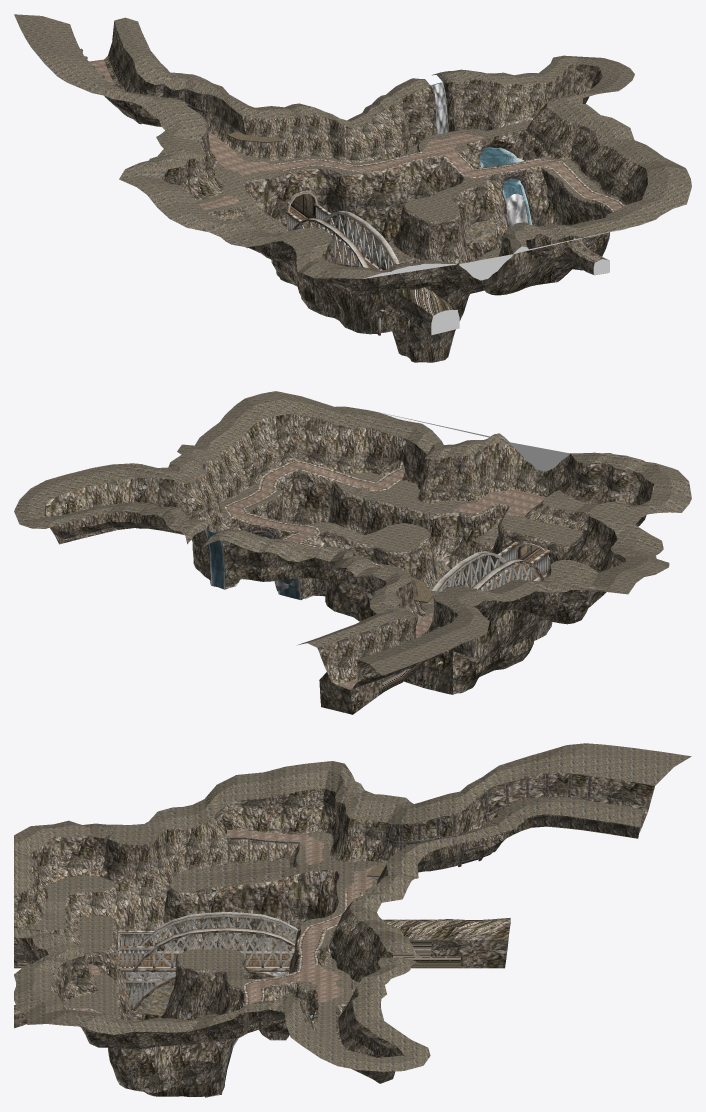
Rendered from SachsenMountainPath2.obj.
3 views of the same model, one above another, from view 1: azimuth 30°, elevation 25°; view 2: azimuth 150°, elevation 25°; view 3: azimuth 270°, elevation 25° (orthographic). The views are drawn at different scales.
Parts seen in each view (by area): view 1: Object.11, Object.13, Object.14, Object.10, Object.12, Object.7, Object.3, Object.18, Object.9, Object.17, Object.5; view 2: Object.11, Object.13, Object.14, Object.10, Object.12, Object.7, Object.18; view 3: Object.11, Object.13, Object.10, Object.14, Object.18, Object.4, Object.12.
Boxes of the visible parts, left/top/right/bottom form: Object.11: left=88, top=21, right=647, bottom=362; Object.13: left=14, top=14, right=691, bottom=278; Object.14: left=89, top=59, right=622, bottom=260; Object.10: left=286, top=203, right=409, bottom=335; Object.12: left=274, top=151, right=624, bottom=211; Object.7: left=431, top=82, right=532, bottom=224; Object.3: left=291, top=193, right=458, bottom=334; Object.18: left=80, top=48, right=527, bottom=248; Object.9: left=568, top=242, right=609, bottom=275; Object.17: left=431, top=82, right=448, bottom=134; Object.5: left=505, top=194, right=528, bottom=228; Object.11: left=44, top=414, right=653, bottom=714; Object.13: left=14, top=391, right=691, bottom=675; Object.14: left=227, top=462, right=546, bottom=689; Object.10: left=432, top=541, right=550, bottom=665; Object.12: left=224, top=461, right=433, bottom=594; Object.7: left=205, top=530, right=300, bottom=599; Object.18: left=246, top=519, right=476, bottom=674; Object.11: left=14, top=772, right=654, bottom=1096; Object.13: left=14, top=743, right=691, bottom=1071; Object.10: left=117, top=912, right=297, bottom=1010; Object.14: left=70, top=830, right=639, bottom=1012; Object.18: left=227, top=773, right=592, bottom=1029; Object.4: left=119, top=953, right=293, bottom=966; Object.12: left=69, top=838, right=363, bottom=1012.
Size of the model in its own units: 294 by 111 by 299.
